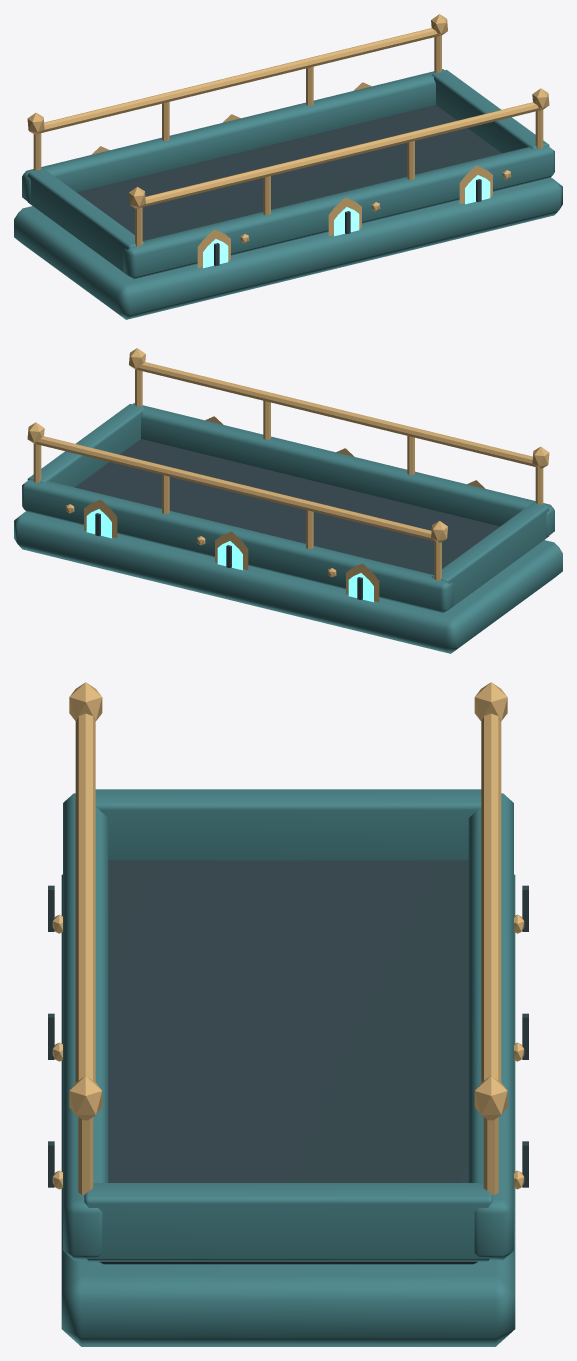
Rendered from growth-deck.glb.
3 views of the same model, one above another, from view 1: azimuth 30°, elevation 25°; view 2: azimuth 150°, elevation 25°; view 3: azimuth 270°, elevation 25° (orthographic). The views are drawn at different scales.
Visible parts, largest first — view 1: growth-deck / Paint | growth Prussian petrol enamel, growth-deck / Structure | growth blue-black wrought iron, growth-deck / Brass | growth warm machined fittings, growth-deck / Lamp | growth luminous mint glass; view 2: growth-deck / Paint | growth Prussian petrol enamel, growth-deck / Structure | growth blue-black wrought iron, growth-deck / Brass | growth warm machined fittings, growth-deck / Lamp | growth luminous mint glass; view 3: growth-deck / Paint | growth Prussian petrol enamel, growth-deck / Structure | growth blue-black wrought iron, growth-deck / Brass | growth warm machined fittings.
Boxes of the visible parts, x1,y1,x2,y2 form: growth-deck / Paint | growth Prussian petrol enamel: (14, 69, 562, 319); growth-deck / Structure | growth blue-black wrought iron: (77, 105, 501, 266); growth-deck / Brass | growth warm machined fittings: (27, 14, 549, 268); growth-deck / Lamp | growth luminous mint glass: (203, 175, 490, 268); growth-deck / Paint | growth Prussian petrol enamel: (14, 403, 562, 653); growth-deck / Structure | growth blue-black wrought iron: (75, 439, 499, 600); growth-deck / Brass | growth warm machined fittings: (27, 348, 549, 602); growth-deck / Lamp | growth luminous mint glass: (86, 509, 373, 602); growth-deck / Paint | growth Prussian petrol enamel: (61, 789, 515, 1346); growth-deck / Structure | growth blue-black wrought iron: (48, 860, 528, 1264); growth-deck / Brass | growth warm machined fittings: (52, 682, 524, 1194).
Bounding box in the file's own units: 3.4 × 0.944 × 1.59.
